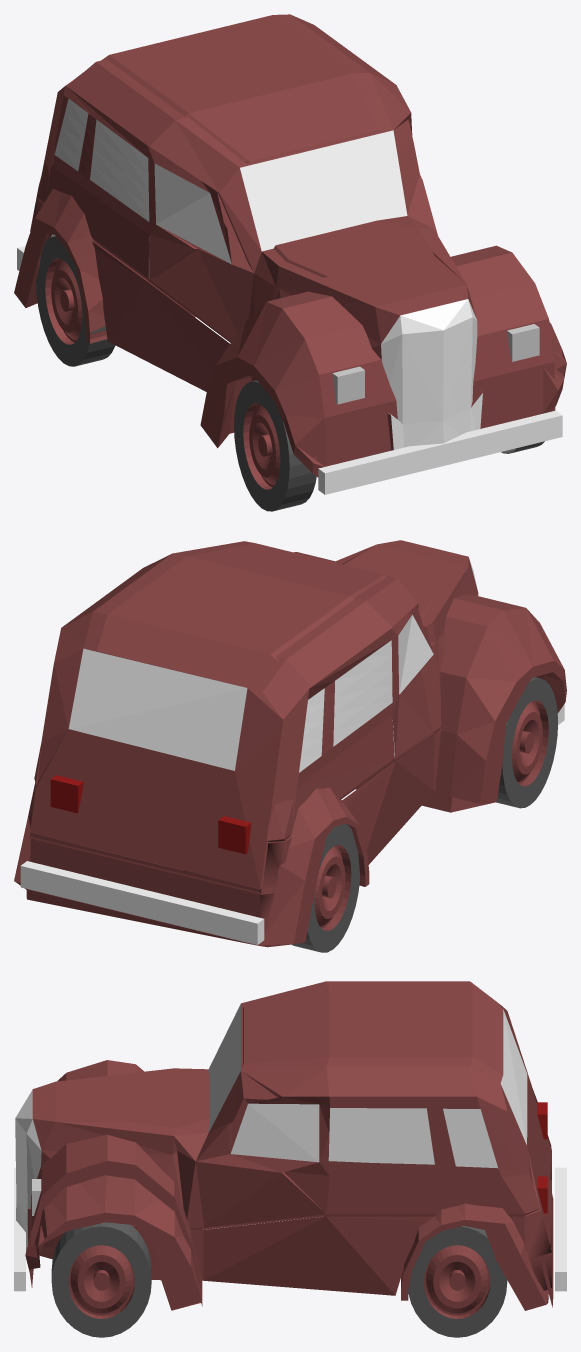
File: ford-prefect-early-red.dae
3 views of the same model, one above another, from view 1: azimuth 30°, elevation 25°; view 2: azimuth 150°, elevation 25°; view 3: azimuth 270°, elevation 25° (orthographic). The views are drawn at different scales.
Parts seen in each view (by area): view 1: Cube_016, Cube_017, Cube_002, Circle_007, Circle_008, Cube_463; view 2: Cube_016, Cube_017, Cube_003, Circle_007, Circle_008, Cube_001; view 3: Cube_016, Cube_017, Circle_007, Circle_008, Cube_003, Cube_002, Cube_001.
Boxes of the visible parts, x1,y1,x2,y2 form: Cube_016: [30, 14, 482, 450]; Cube_017: [14, 188, 566, 477]; Cube_002: [318, 410, 562, 494]; Circle_007: [234, 380, 544, 511]; Circle_008: [36, 236, 115, 366]; Cube_463: [332, 324, 539, 404]; Cube_016: [29, 540, 478, 934]; Cube_017: [14, 552, 566, 947]; Cube_003: [20, 861, 264, 944]; Circle_007: [496, 677, 557, 808]; Circle_008: [292, 824, 359, 952]; Cube_001: [50, 775, 251, 854]; Cube_016: [15, 981, 551, 1295]; Cube_017: [25, 1060, 553, 1310]; Circle_007: [51, 1222, 151, 1337]; Circle_008: [408, 1226, 507, 1337]; Cube_003: [555, 1167, 566, 1291]; Cube_002: [14, 1167, 25, 1291]; Cube_001: [537, 1102, 547, 1213].
Bounding box in the file's own units: 1.14 × 2.2 × 1.14.
